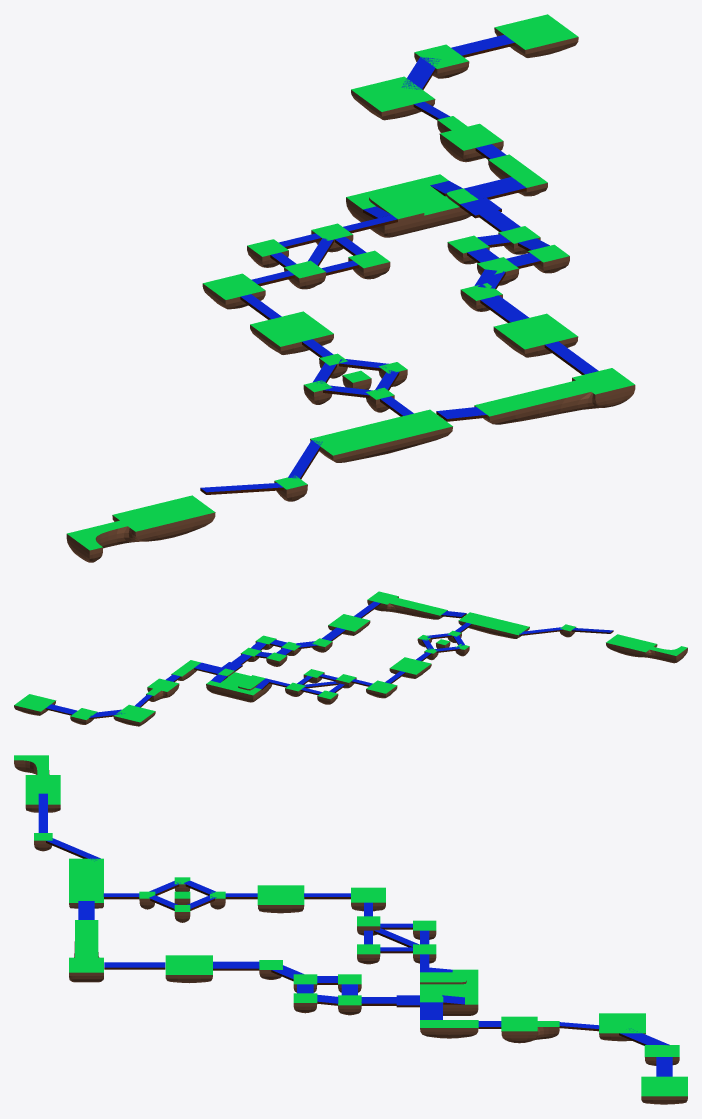
The model's file is skygame level 1.fbx.
The picture shows the model from 3 angles, top to bottom: view 1: azimuth 30°, elevation 25°; view 2: azimuth 150°, elevation 25°; view 3: azimuth 270°, elevation 25°; orthographic projection. The views are drawn at different scales.
Parts seen in each view (by area): view 1: Cube.027, Cube.006, Cube.024, Cube.025, Cube.001, Cube.003, Cube.023, Cube.012, Cube.004, Cube.011, Cube.005, Cube.002 (+3 smaller); view 2: Cube.006, Cube.027, Cube.024, Cube.025, Cube.003, Cube.001, Cube.012, Cube.023, Cube.004, Cube.011, Cube.002, Cube.005 (+2 smaller); view 3: Cube.006, Cube.027, Cube.024, Cube.025, Cube.004, Cube.001, Cube.012, Cube.023, Cube.003, Cube.005, Cube.011, Cube.002.
Part boxes in pixels (x1,y1,x2,y2): Cube.027: (66,495,215,562); Cube.006: (346,174,478,237); Cube.024: (474,368,635,424); Cube.025: (310,409,452,462); Cube.001: (494,14,578,57); Cube.003: (351,76,435,120); Cube.023: (493,313,578,357); Cube.012: (250,311,333,354); Cube.004: (437,116,503,162); Cube.011: (202,273,265,309); Cube.005: (488,154,547,196); Cube.002: (414,44,469,78); Cube.006: (206,668,272,702); Cube.027: (606,634,687,663); Cube.024: (367,591,447,619); Cube.025: (458,612,529,638); Cube.003: (113,704,155,726); Cube.001: (14,694,56,715); Cube.012: (389,657,431,678); Cube.023: (328,614,370,635); Cube.004: (146,678,179,701); Cube.011: (366,680,397,698); Cube.002: (70,708,97,724); Cube.005: (171,660,200,680); Cube.006: (420,969,478,1015); Cube.027: (14,755,60,812); Cube.024: (69,920,103,982); Cube.025: (69,858,103,908); Cube.004: (501,1016,559,1043); Cube.001: (641,1076,687,1104); Cube.012: (257,885,304,913); Cube.023: (165,955,212,983); Cube.003: (599,1013,645,1041); Cube.005: (420,1020,478,1038); Cube.011: (351,887,385,911); Cube.002: (644,1045,679,1065).
Bounding box in the file's own units: 337 × 288 × 15.
